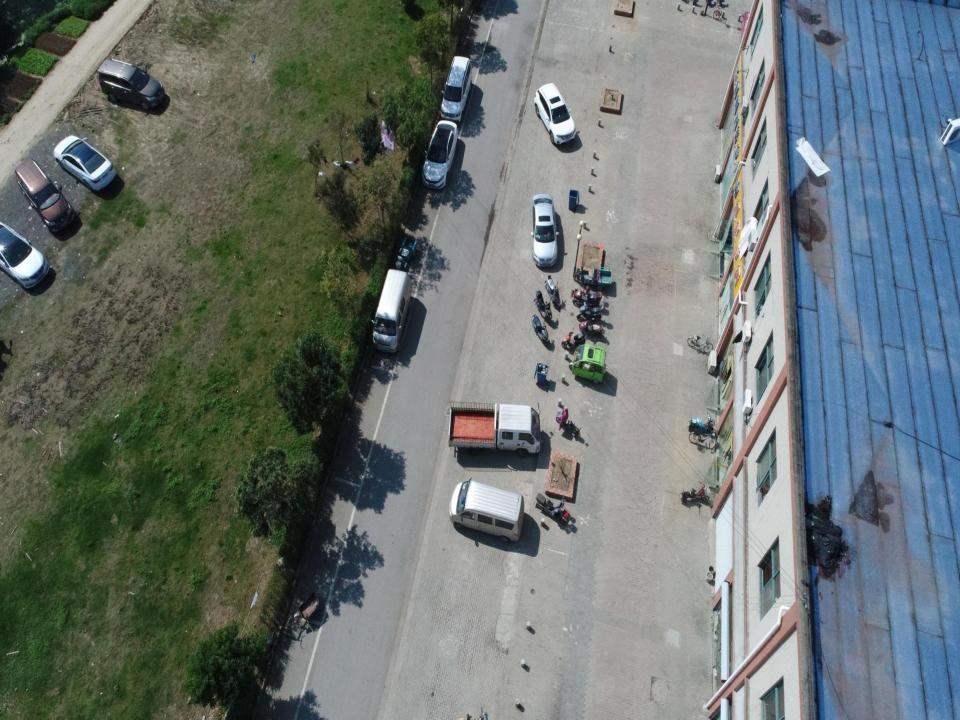car: (15, 157, 76, 232), (98, 56, 165, 110), (0, 221, 51, 290), (55, 136, 116, 192), (534, 83, 577, 147), (421, 120, 458, 189), (531, 194, 559, 268)
truck: (448, 400, 541, 456)
van: (450, 479, 524, 544), (440, 55, 472, 123)
